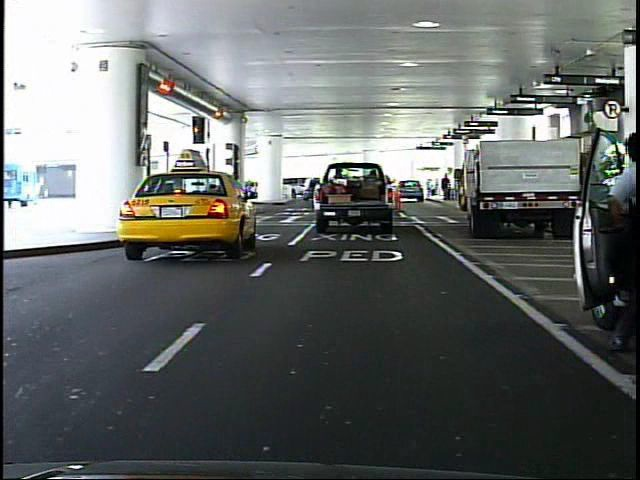person: (591, 120, 640, 340), (201, 167, 221, 214)
